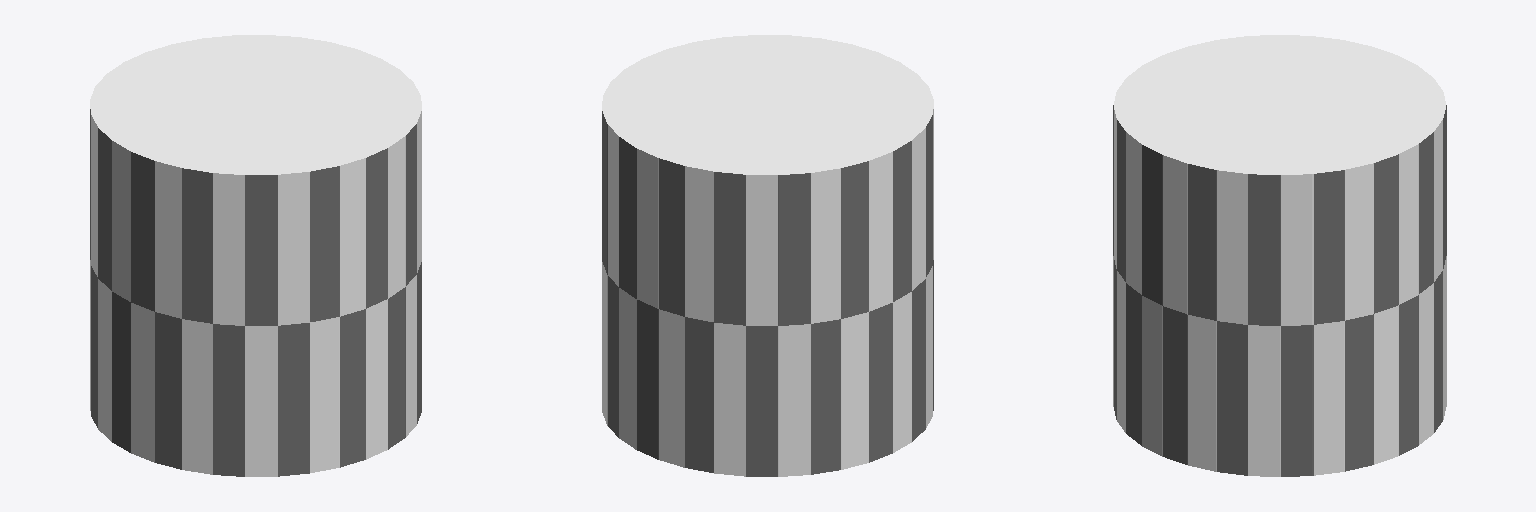
3 views of the same model, side by side, from view 1: azimuth 30°, elevation 25°; view 2: azimuth 150°, elevation 25°; view 3: azimuth 270°, elevation 25° (orthographic).
Visible parts, largest first — view 1: Cylinder; view 2: Cylinder; view 3: Cylinder.
Part boxes in pixels (left/top/right/bottom): Cylinder: left=90, top=35, right=421, bottom=476; Cylinder: left=602, top=35, right=933, bottom=476; Cylinder: left=1113, top=35, right=1446, bottom=476.
Bounding box in the file's own units: 200 × 200 × 200.
1 materials, 1 textured.